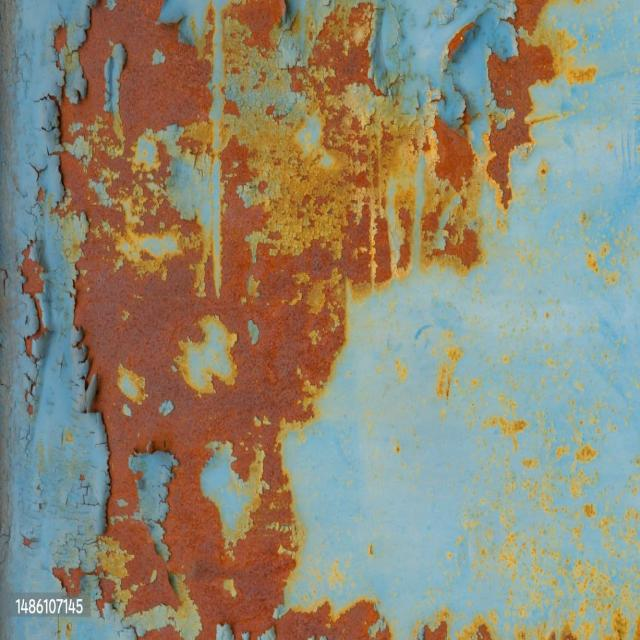Uniform Corrosion: (52, 0, 431, 639), (488, 38, 555, 206), (419, 186, 505, 269), (19, 238, 51, 416), (433, 119, 474, 190), (412, 611, 499, 639), (395, 191, 415, 276), (514, 621, 579, 639), (515, 0, 548, 33), (51, 21, 67, 69)
